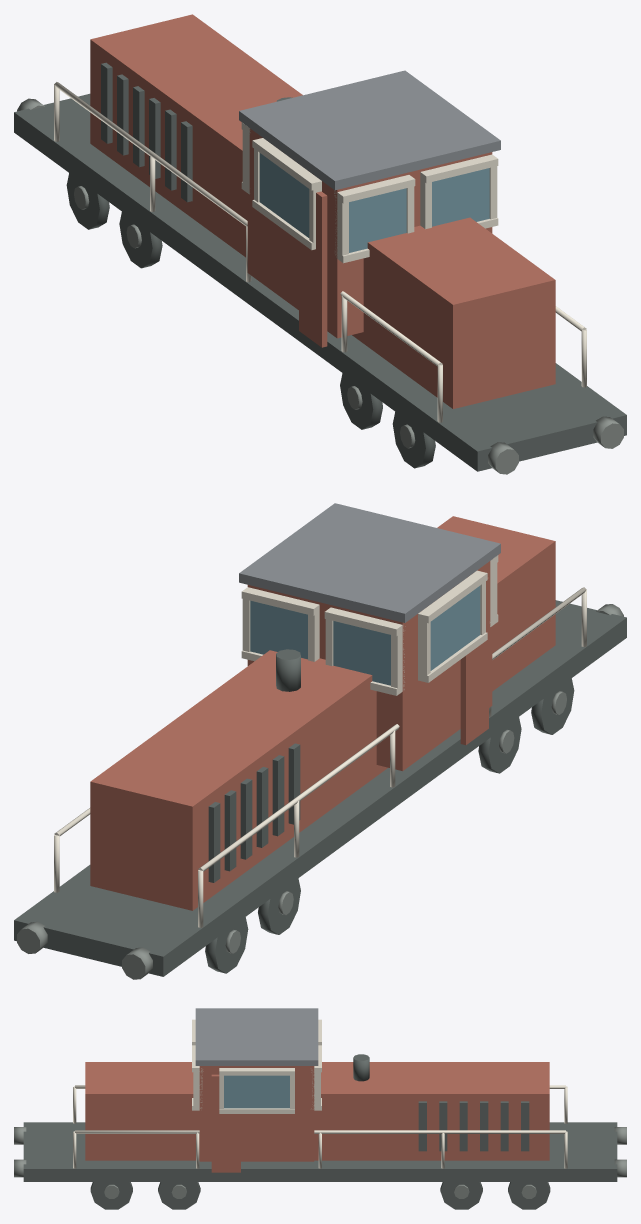
The model's file is rhine-v100_lod1.glb.
The picture shows the model from 3 angles, top to bottom: view 1: azimuth 30°, elevation 25°; view 2: azimuth 150°, elevation 25°; view 3: azimuth 270°, elevation 25°; orthographic projection. The views are drawn at different scales.
Parts seen in each view (by area): view 1: RF_ShortHood, RF_Chassis, RF_LongHood, RF_CabRoof, RF_CentreCab, RF_CabDoor.001, RF_Window.001, RF_Window.002, RF_Window.005, RF_WalkwayHandrail.001, RF_Wheel.005, RF_Wheel.001 (+15 smaller); view 2: RF_LongHood, RF_Chassis, RF_CabRoof, RF_ShortHood, RF_CentreCab, RF_CabDoor.001, RF_Window.003, RF_Window.004, RF_Window.005, RF_WalkwayHandrail.001, RF_Wheel.003, RF_Wheel.007 (+17 smaller); view 3: RF_LongHood, RF_Chassis, RF_ShortHood, RF_CabRoof, RF_CentreCab, RF_Window, RF_CabDoor, RF_WalkwayHandrail, RF_Wheel.002, RF_Wheel, RF_Wheel.004, RF_Wheel.006 (+11 smaller).
Boxes of the visible parts, box(x1,y1,x2,y2) form: RF_ShortHood: box(352, 217, 555, 408); RF_Chassis: box(14, 93, 626, 471); RF_LongHood: box(90, 14, 302, 257); RF_CabRoof: box(239, 70, 500, 190); RF_CentreCab: box(247, 128, 492, 338); RF_CabDoor.001: box(299, 191, 327, 347); RF_Window.001: box(349, 188, 406, 252); RF_Window.002: box(432, 168, 489, 226); RF_Window.005: box(259, 153, 309, 237); RF_WalkwayHandrail.001: box(54, 82, 442, 366); RF_Wheel.005: box(119, 212, 162, 268); RF_Wheel.001: box(392, 412, 435, 468); RF_LongHood: box(90, 650, 387, 910); RF_Chassis: box(14, 600, 626, 976); RF_CabRoof: box(239, 503, 500, 622); RF_ShortHood: box(437, 516, 555, 691); RF_CentreCab: box(247, 561, 492, 771); RF_CabDoor.001: box(460, 577, 488, 745); RF_Window.003: box(333, 621, 390, 685); RF_Window.004: box(250, 600, 307, 659); RF_Window.005: box(430, 586, 480, 670); RF_WalkwayHandrail.001: box(198, 587, 586, 871); RF_Wheel.003: box(478, 717, 521, 773); RF_Wheel.007: box(205, 917, 248, 973); RF_LongHood: box(314, 1062, 549, 1160); RF_Chassis: box(23, 1122, 617, 1181); RF_ShortHood: box(85, 1062, 199, 1160); RF_CabRoof: box(195, 1008, 318, 1065); RF_CentreCab: box(199, 1066, 314, 1161); RF_Window: box(224, 1075, 289, 1108); RF_CabDoor: box(211, 1074, 240, 1172); RF_WalkwayHandrail: box(75, 1130, 565, 1133); RF_Wheel.002: box(90, 1182, 132, 1209); RF_Wheel: box(508, 1182, 550, 1209); RF_Wheel.004: box(158, 1182, 200, 1209); RF_Wheel.006: box(440, 1182, 482, 1209).
Size of the model in its own units: 3.18 by 4.1 by 14.98.
